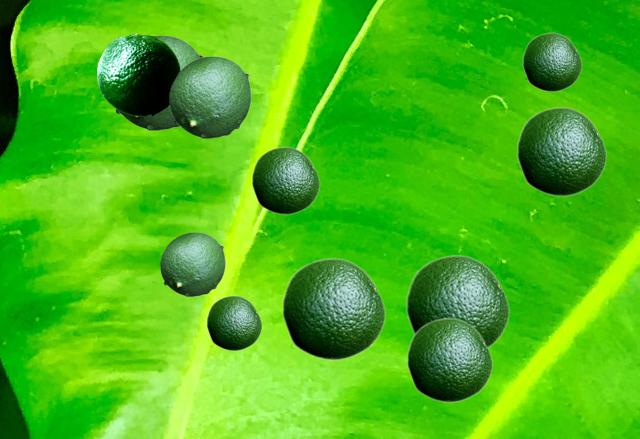calamansi: (281, 257, 385, 360), (405, 254, 509, 348), (115, 35, 203, 129), (516, 106, 606, 196), (406, 317, 492, 402), (97, 33, 179, 114), (169, 56, 250, 137), (251, 146, 319, 214), (160, 232, 224, 295), (522, 32, 581, 91), (206, 295, 261, 350)
